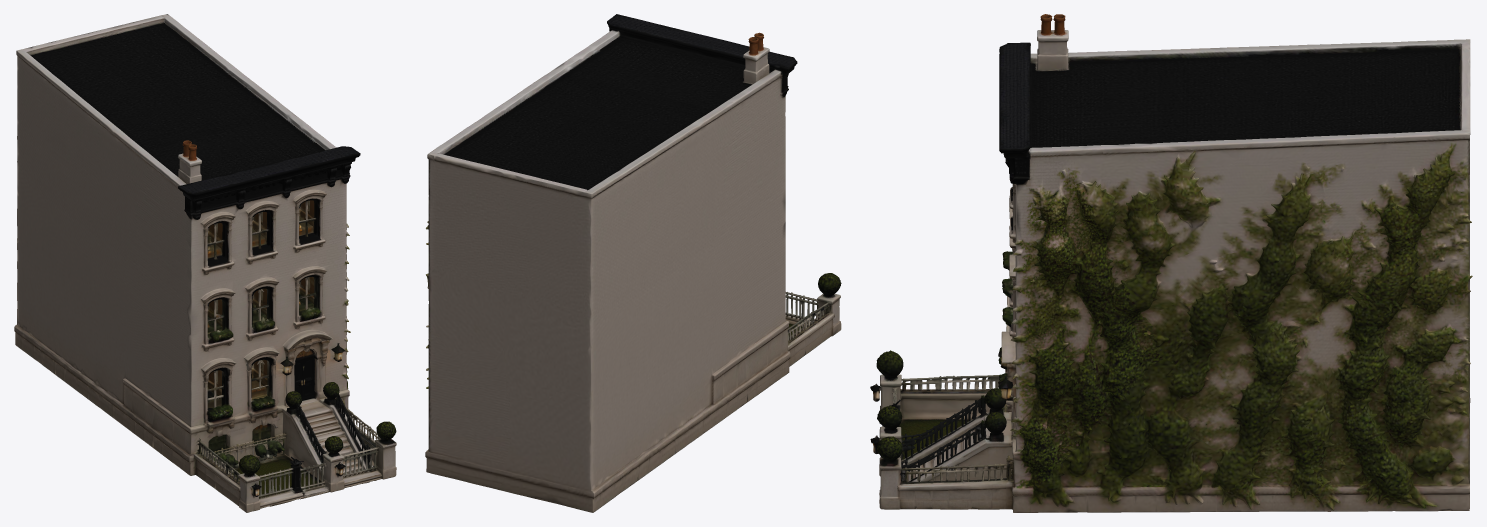
File: tripo_convert_2f4ab5a9-cd46-46da-a934-cc67c3d8554d.fbx
3 views of the same model, side by side, from view 1: azimuth 30°, elevation 25°; view 2: azimuth 150°, elevation 25°; view 3: azimuth 270°, elevation 25° (orthographic). The views are drawn at different scales.
Visible parts, largest first — view 1: tripo_node_2f4ab5a9; view 2: tripo_node_2f4ab5a9; view 3: tripo_node_2f4ab5a9.
Boxes of the visible parts, x1,y1,x2,y2 form: tripo_node_2f4ab5a9: (14,14,396,512); tripo_node_2f4ab5a9: (425,14,841,512); tripo_node_2f4ab5a9: (870,14,1472,512).
Bounding box in the file's own units: 0.424 × 0.7339 × 0.9836.
Materials: 1 (1 with a texture image).
